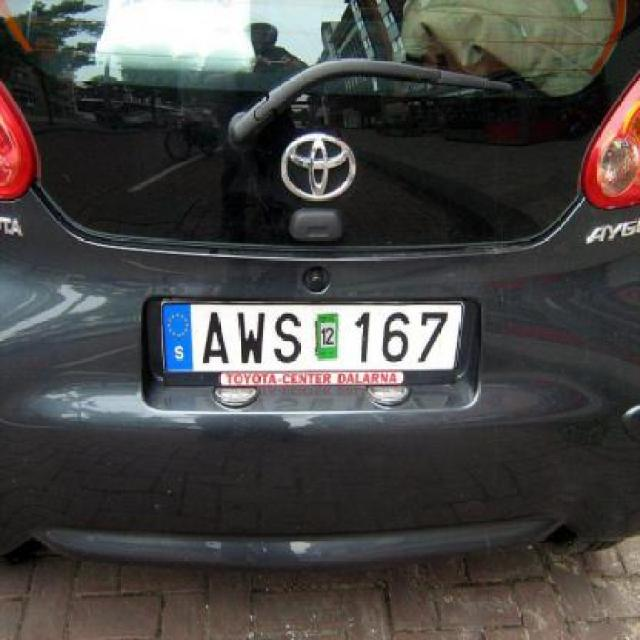Licenseplate: (148, 291, 464, 408)
